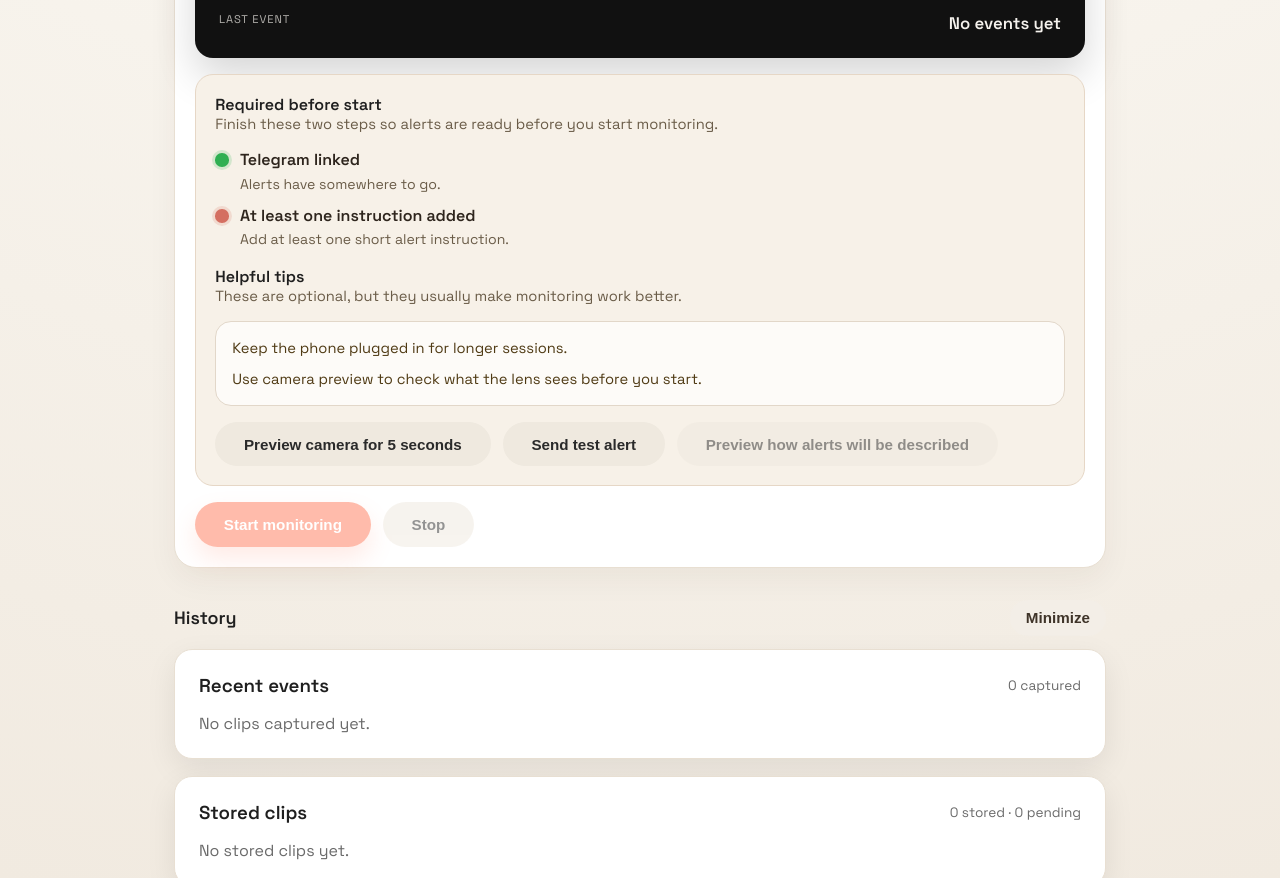
Test case: App › sends a Telegram test alert once Telegram is linked
(page scrolled)
Click the button "Send test alert": (584, 444) [503,422,665,466]
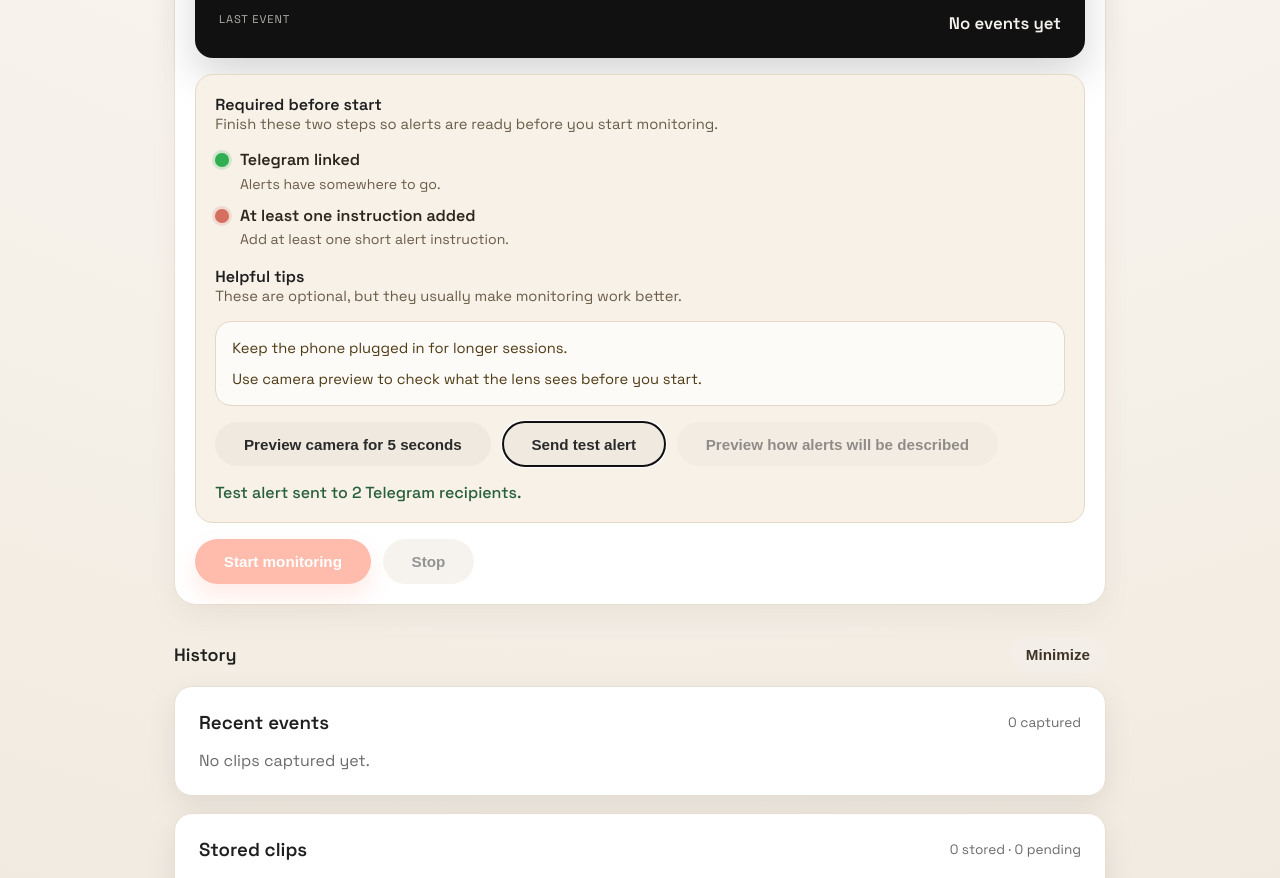
Expected: the text "Test alert sent to 2 Telegram recipients." is shown, [215,482,521,503]
